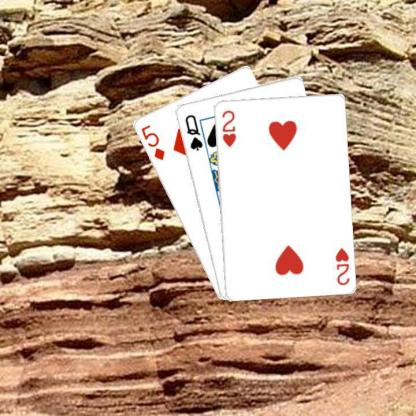2H: (219, 107, 237, 148), (332, 245, 350, 286)
5D: (138, 122, 166, 162)
QS: (182, 111, 203, 152)
